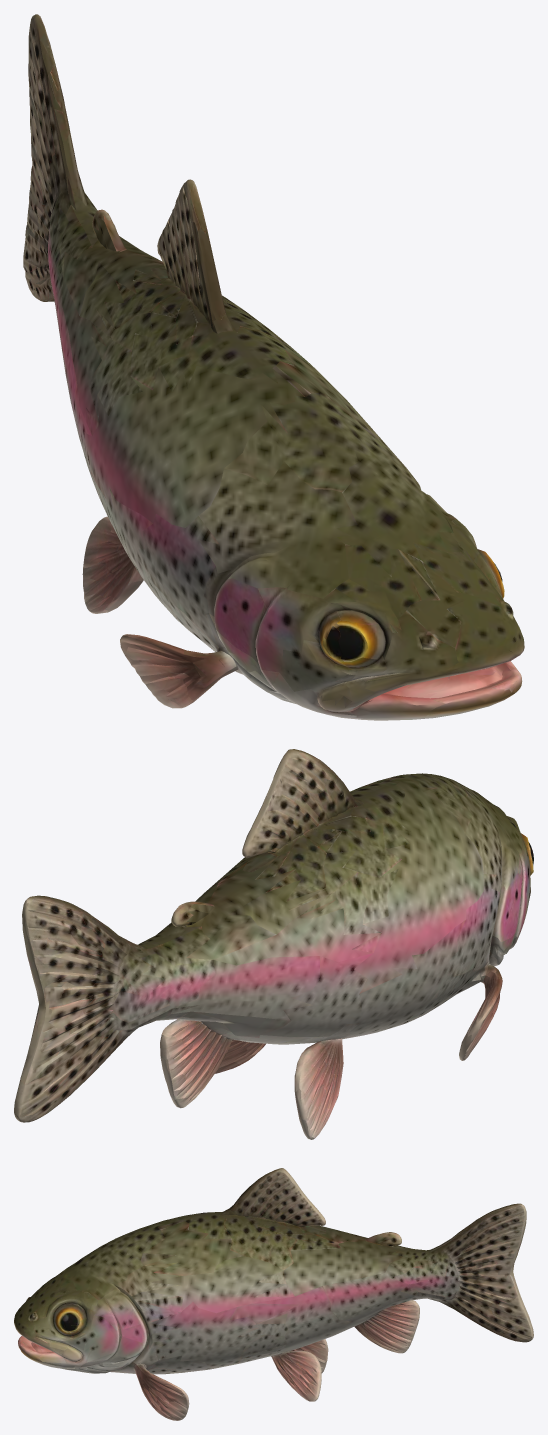
The model's file is gokkusagi.glb.
3 views of the same model, one above another, from view 1: azimuth 30°, elevation 25°; view 2: azimuth 150°, elevation 25°; view 3: azimuth 270°, elevation 25° (orthographic). The views are drawn at different scales.
Parts seen in each view (by area): view 1: output_unwrapped; view 2: output_unwrapped; view 3: output_unwrapped.
Boxes of the visible parts, bbox=[...] form: output_unwrapped: bbox=[23, 14, 524, 720]; output_unwrapped: bbox=[14, 749, 533, 1139]; output_unwrapped: bbox=[14, 1168, 533, 1420].
Size of the model in its own units: 0.5925 by 0.9232 by 1.9.
1 material, 1 textured.
